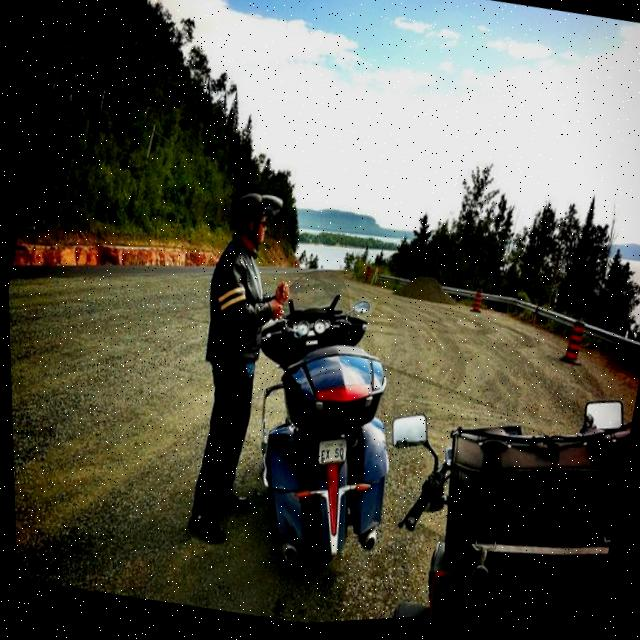motorcycle: (196, 271, 429, 603)
plate: (307, 426, 359, 475)
